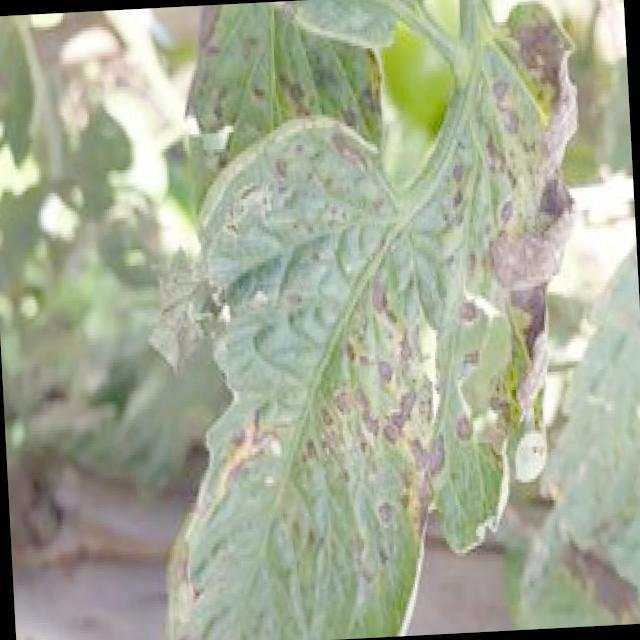Tomato Septoria spot leaf: (130, 0, 610, 640)
